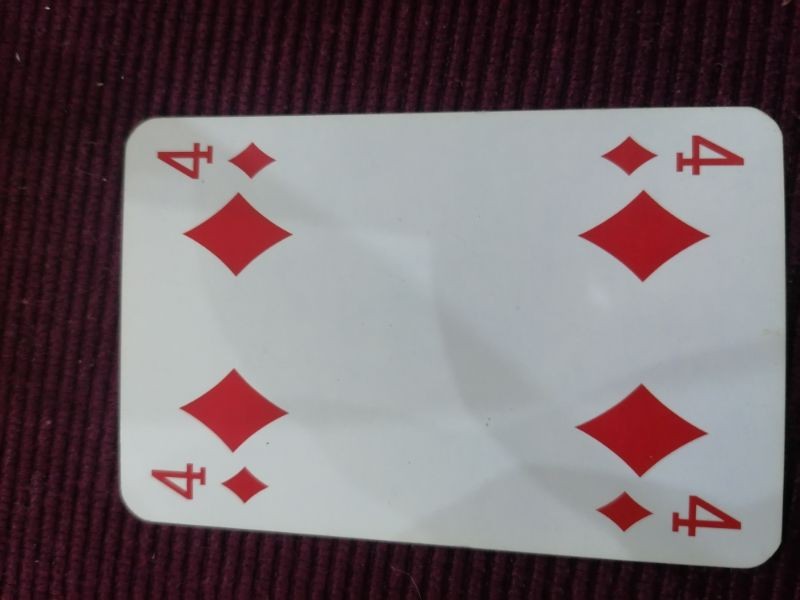4d: (588, 484, 749, 544), (597, 129, 749, 183), (150, 134, 282, 184), (147, 461, 273, 508)
